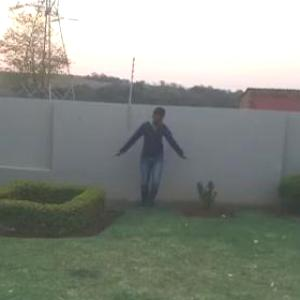land: (110, 98, 194, 215)
